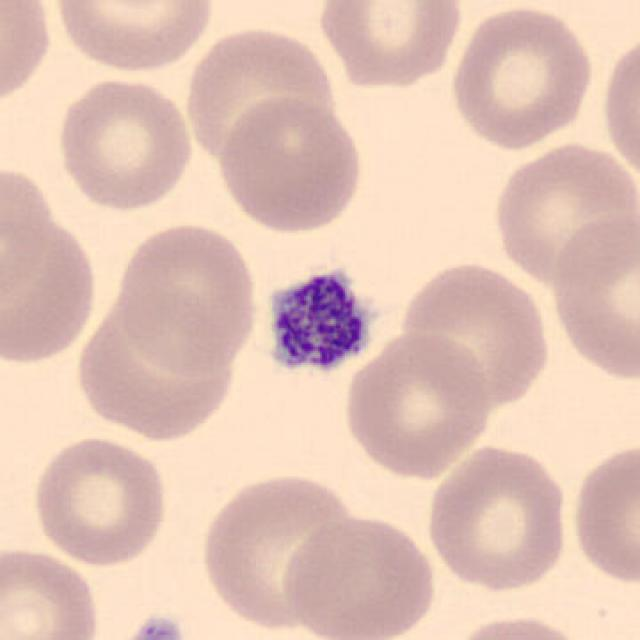Platelets: (256, 263, 377, 381), (121, 612, 188, 640)
RBC: (196, 467, 366, 635), (396, 257, 554, 411), (112, 217, 263, 377), (180, 19, 340, 168), (340, 328, 494, 481), (444, 2, 598, 153), (78, 298, 238, 442), (423, 441, 573, 594), (0, 159, 103, 377), (489, 139, 636, 289), (213, 94, 368, 236), (277, 511, 439, 640), (51, 74, 196, 213), (29, 432, 172, 568), (546, 205, 638, 386), (314, 0, 466, 92), (48, 0, 219, 76), (567, 436, 640, 590), (0, 543, 103, 640), (597, 26, 640, 194), (0, 0, 55, 115), (443, 612, 592, 640)
